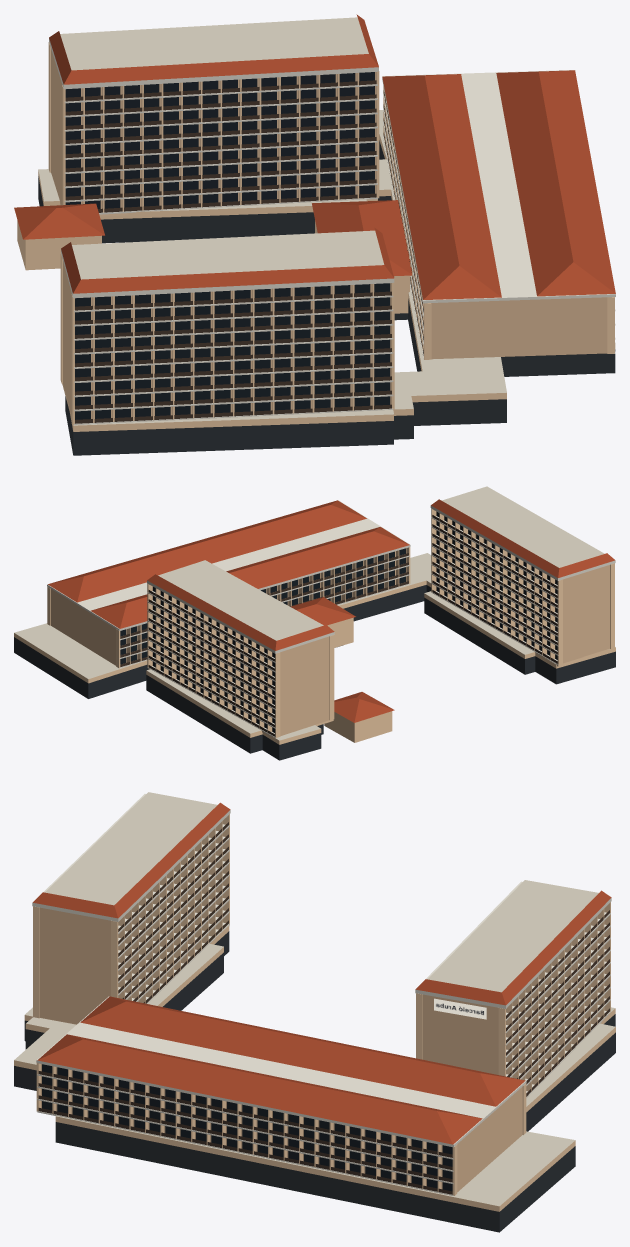
File: barcelo.glb
The picture shows the model from 3 angles, top to bottom: view 1: azimuth 30°, elevation 25°; view 2: azimuth 150°, elevation 25°; view 3: azimuth 270°, elevation 25°; orthographic projection. The views are drawn at different scales.
Visible parts, largest first — view 1: barcelo_lod0; view 2: barcelo_lod0; view 3: barcelo_lod0.
Part boxes in pixels (box(x1,y1,x2,y2)): barcelo_lod0: box(14, 14, 615, 455); barcelo_lod0: box(14, 486, 615, 760); barcelo_lod0: box(14, 792, 615, 1232).
Size of what is drawn, in the model's own units: 161 by 37.6 by 138.
Materials: 9 (1 with a texture image).
